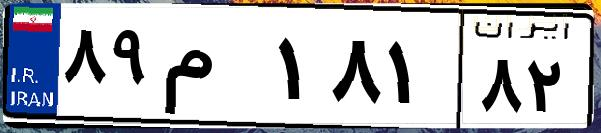1: (270, 28, 330, 110), (385, 28, 445, 110)
2: (525, 38, 570, 115)
8: (330, 28, 385, 110), (57, 26, 110, 100), (475, 38, 525, 113)
9: (110, 28, 158, 98)
م: (158, 20, 270, 120)
